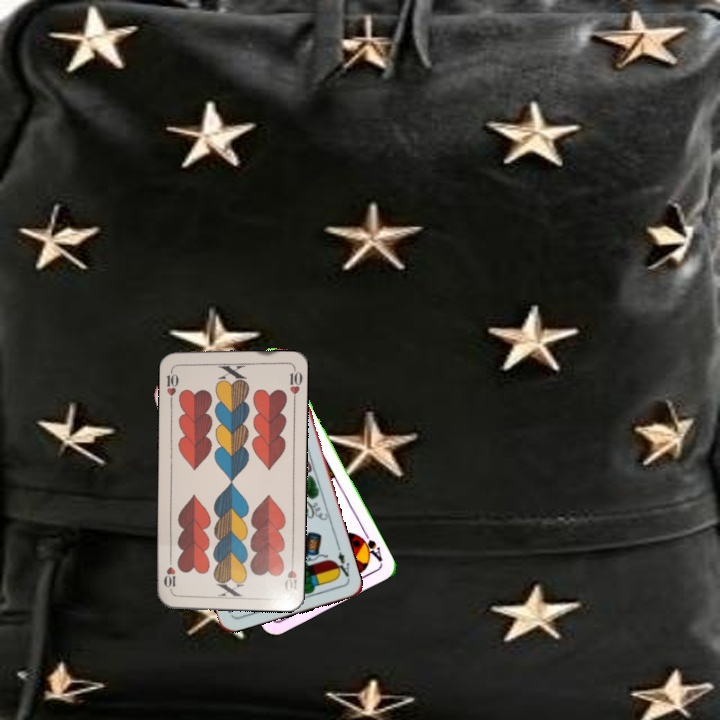EA: (330, 542, 352, 580)
H10: (280, 554, 300, 595), (162, 364, 181, 398)
SA: (354, 527, 385, 565)
